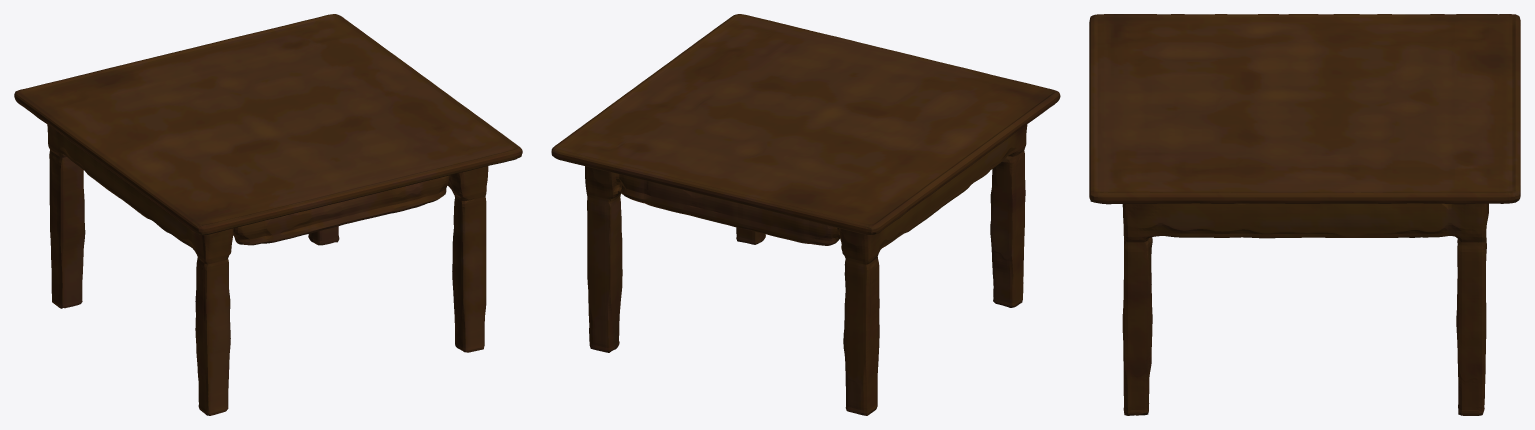
File: awoodentable.glb
The picture shows the model from 3 angles, left to right: view 1: azimuth 30°, elevation 25°; view 2: azimuth 150°, elevation 25°; view 3: azimuth 270°, elevation 25°; orthographic projection. The views are drawn at different scales.
Visible parts, largest first — view 1: a wooden table.ply; view 2: a wooden table.ply; view 3: a wooden table.ply.
Part boxes in pixels (x1,y1,x2,y2): a wooden table.ply: [14, 14, 522, 415]; a wooden table.ply: [551, 14, 1060, 415]; a wooden table.ply: [1089, 14, 1520, 415].
Bounding box in the file's own units: 1.98 × 1.2 × 1.98.
